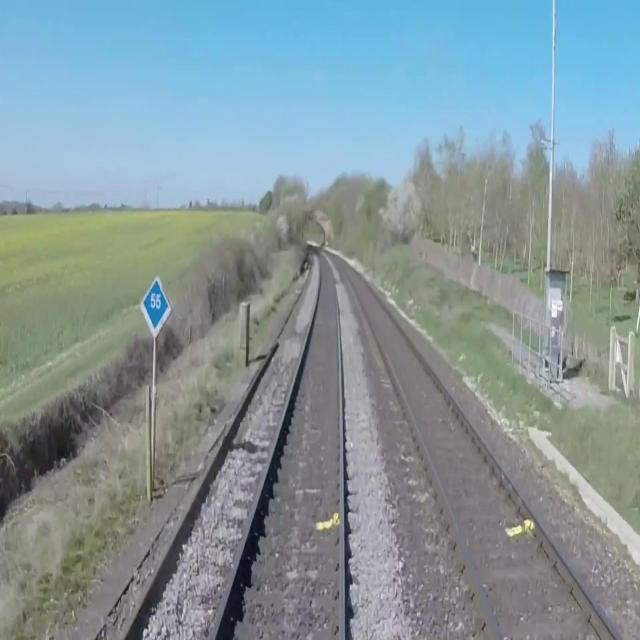rail-track: (330, 253, 616, 639), (214, 250, 340, 639)
